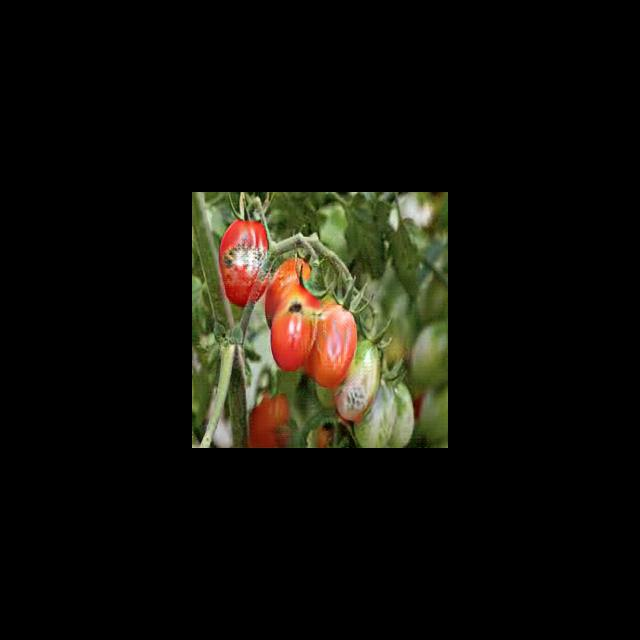tomato: (268, 280, 327, 368), (219, 209, 271, 307), (305, 302, 365, 382)
